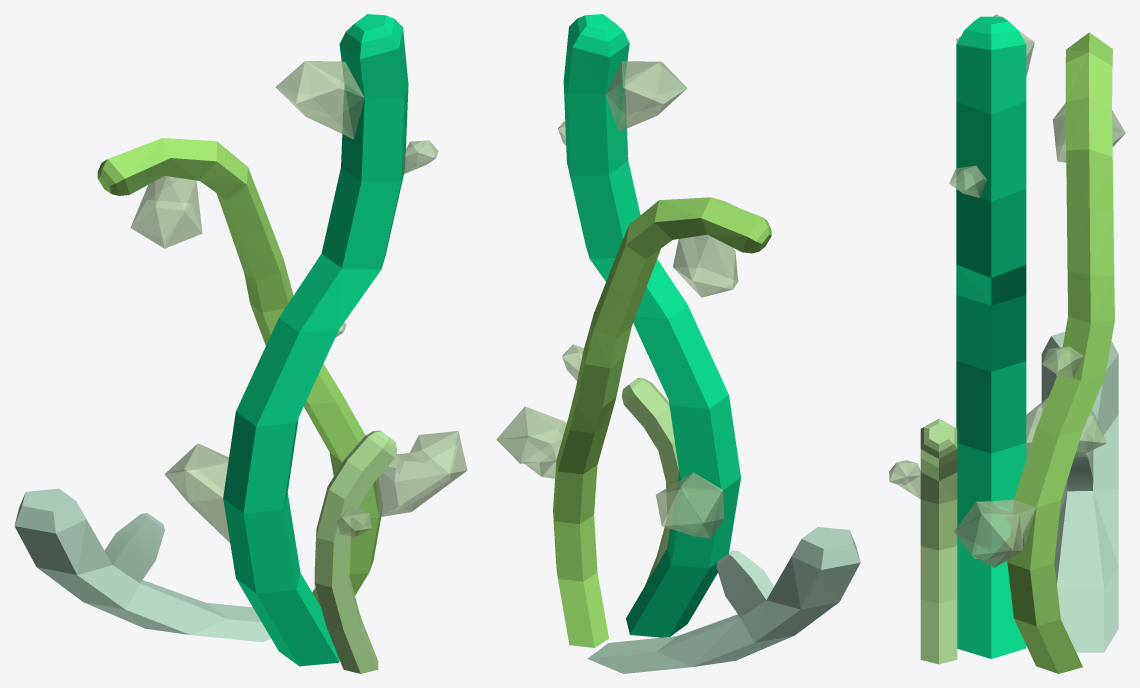
The model's file is magical_plant_green.fbx.
3 views of the same model, side by side, from view 1: azimuth 30°, elevation 25°; view 2: azimuth 150°, elevation 25°; view 3: azimuth 270°, elevation 25° (orthographic). The views are drawn at different scales.
Visible parts, largest first — view 1: prop_magical_plant_green; view 2: prop_magical_plant_green; view 3: prop_magical_plant_green.
Boxes of the visible parts, x1,y1,x2,y2 form: prop_magical_plant_green: [14, 14, 467, 673]; prop_magical_plant_green: [496, 14, 860, 673]; prop_magical_plant_green: [889, 14, 1125, 673].
Bounding box in the file's own units: 54.86 × 78.76 × 25.73.
